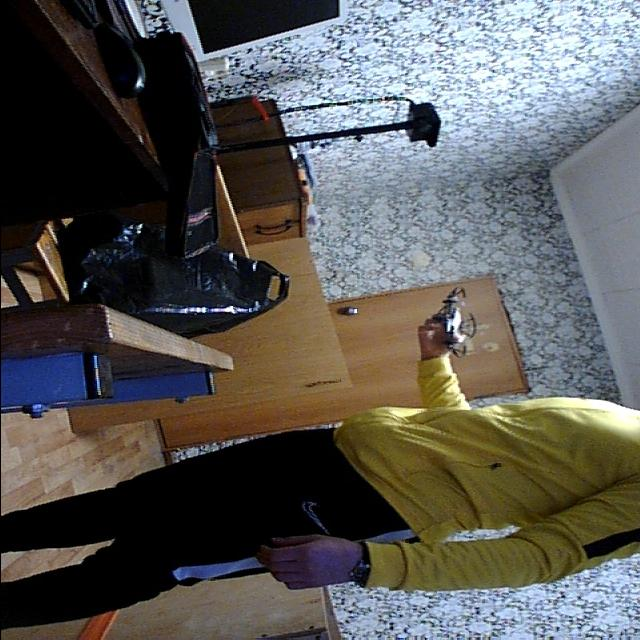drone: (430, 282, 484, 358)
